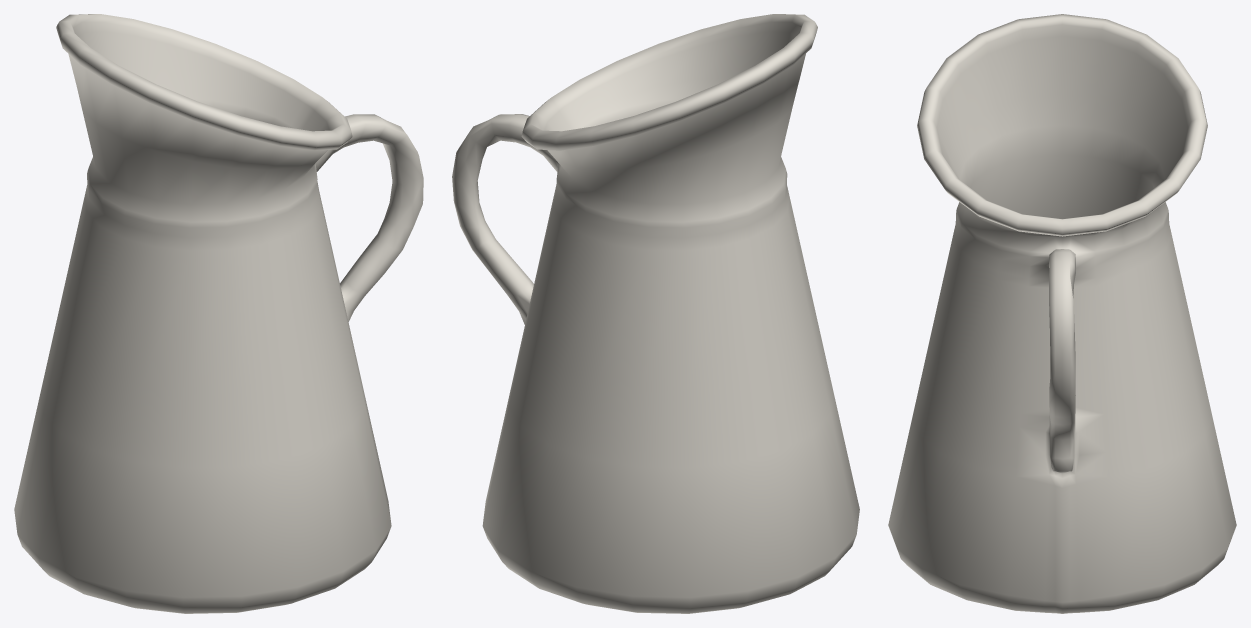
The model's file is Vase.fbx.
3 renders of one model, left to right at view 1: azimuth 30°, elevation 25°; view 2: azimuth 150°, elevation 25°; view 3: azimuth 270°, elevation 25°, orthographic. The views are drawn at different scales.
Parts seen in each view (by area): view 1: vase; view 2: vase; view 3: vase.
Part boxes in pixels (bbox=[...]): vase: bbox=[14, 14, 423, 613]; vase: bbox=[452, 14, 859, 613]; vase: bbox=[888, 14, 1236, 613].
Size of the model in its own units: 316 by 425 by 274.
1 material, 1 textured.
